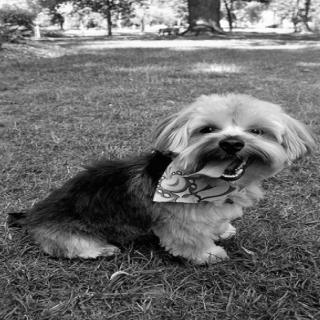dog: (152, 94, 318, 192)
nose: (217, 133, 244, 156)
